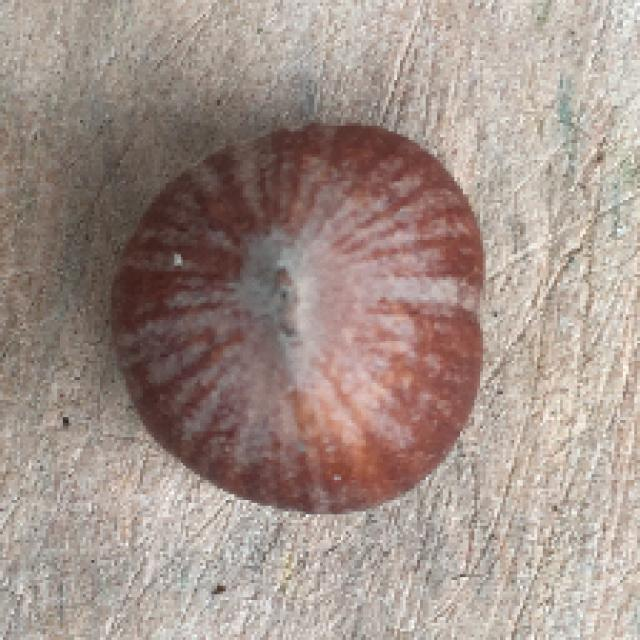qualityHazelnut: (108, 120, 491, 517)
